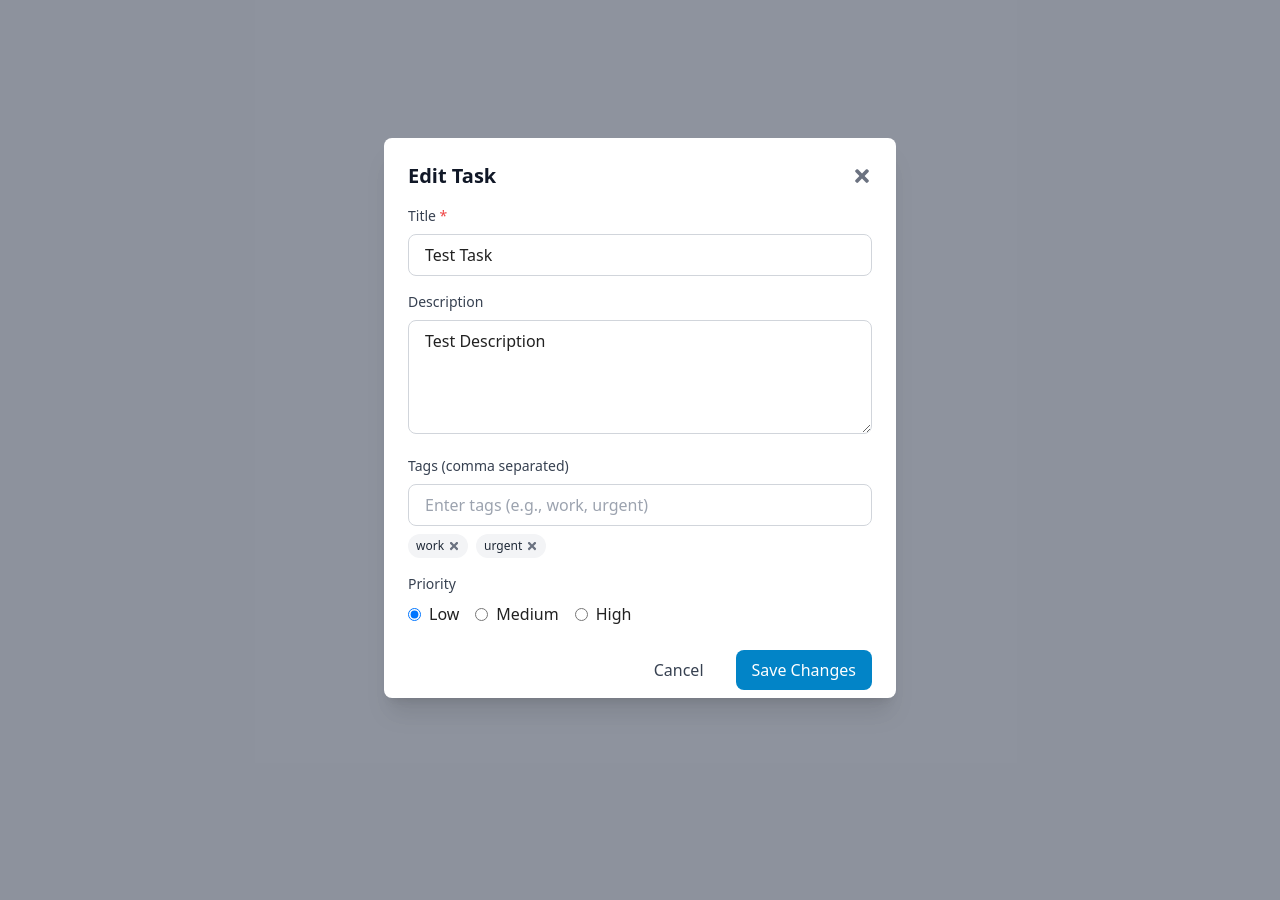
EditTaskModal › should show error when submitting empty title
The image size is (1280, 900).
Clear the field with test id "title-input" at (640, 255), box [408,234,872,276]
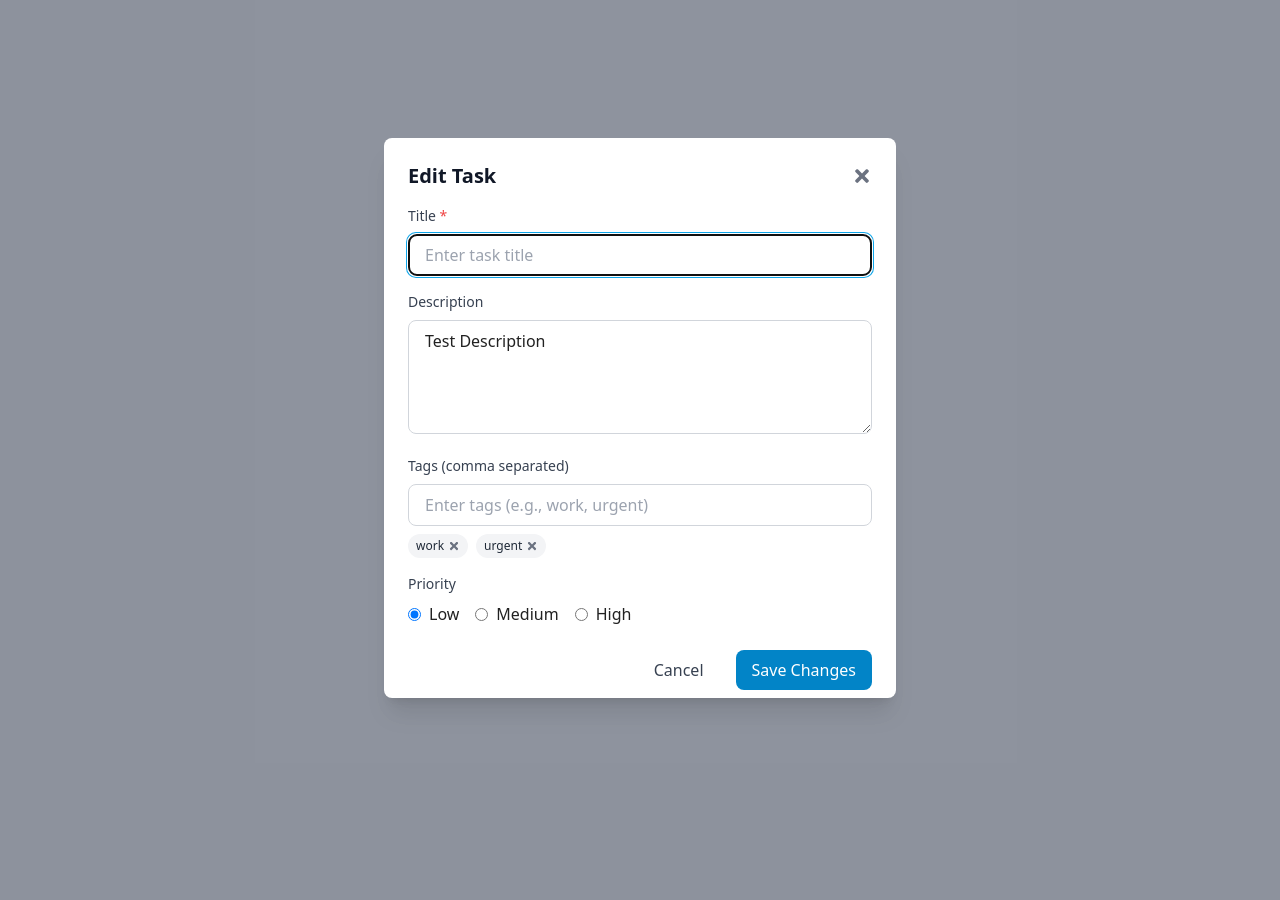
// Submit the form to trigger validation
Click the button with test id "submit-button" at (804, 670), box [736,650,872,690]
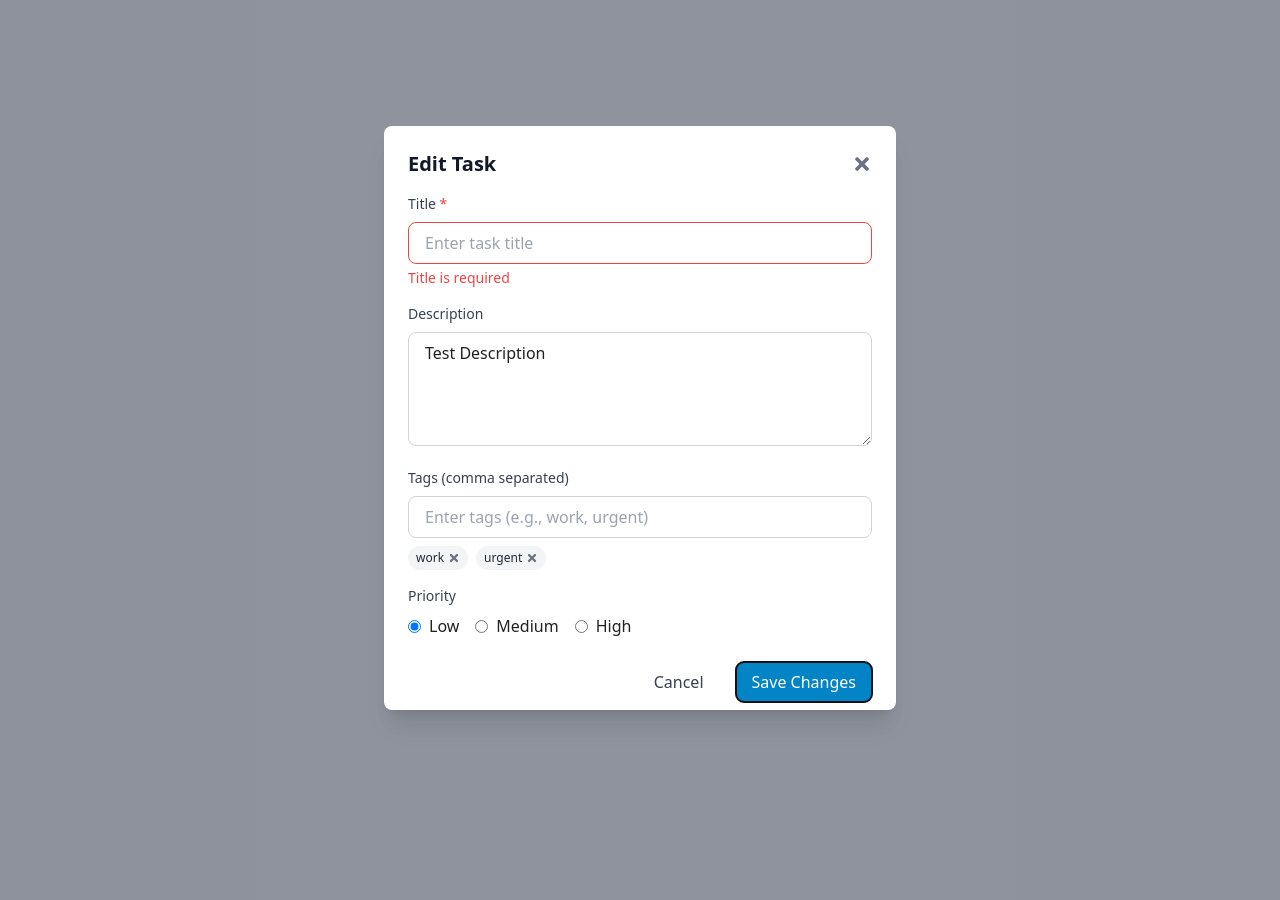
Result: the text "Title is required" is shown at [408,268,510,287]
